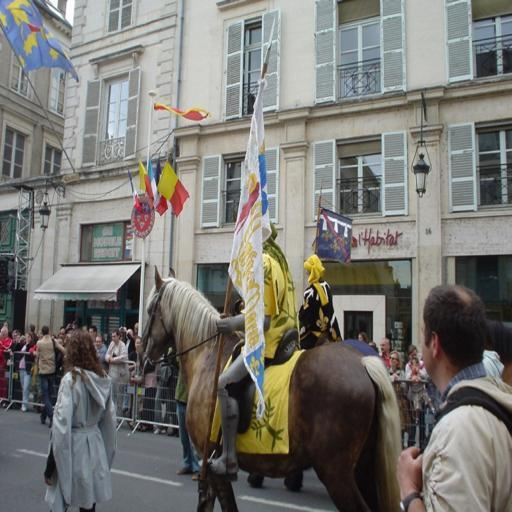horse: (138, 266, 403, 512)
